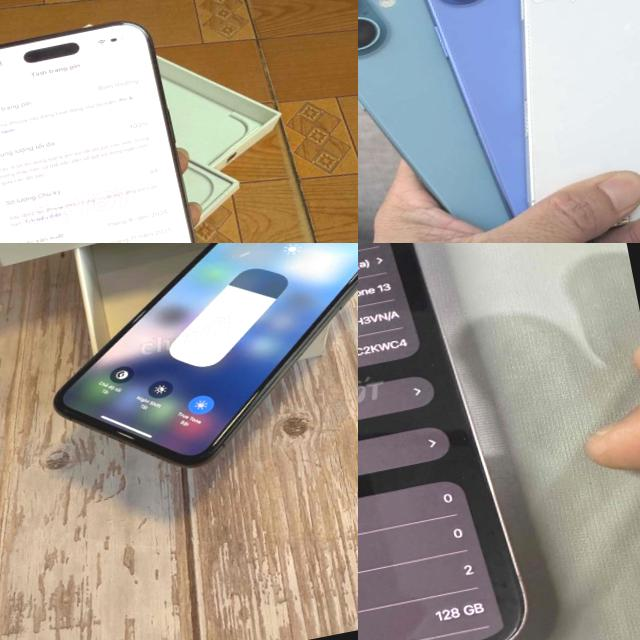gen_12_13: (358, 243, 548, 640)
gen_16: (462, 0, 640, 243)
gen_17: (0, 10, 221, 243)
gen_x_xs: (20, 243, 358, 493)
